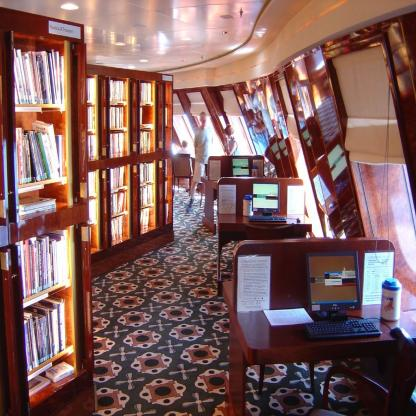book: (14, 226, 72, 306), (22, 296, 68, 374), (15, 118, 63, 189), (13, 46, 67, 107), (18, 192, 57, 217), (44, 358, 74, 384), (25, 374, 54, 397), (109, 187, 126, 217), (138, 179, 156, 207), (108, 78, 126, 102), (137, 77, 153, 103), (137, 162, 155, 185), (110, 164, 125, 190), (108, 131, 124, 155), (110, 105, 125, 130), (137, 131, 153, 153), (109, 217, 123, 242), (86, 168, 97, 198), (140, 205, 153, 229), (86, 105, 98, 130), (139, 105, 152, 128), (86, 134, 97, 160), (86, 75, 95, 104), (87, 198, 97, 224), (166, 205, 171, 223), (165, 154, 168, 178), (164, 181, 167, 201), (165, 106, 168, 126)
